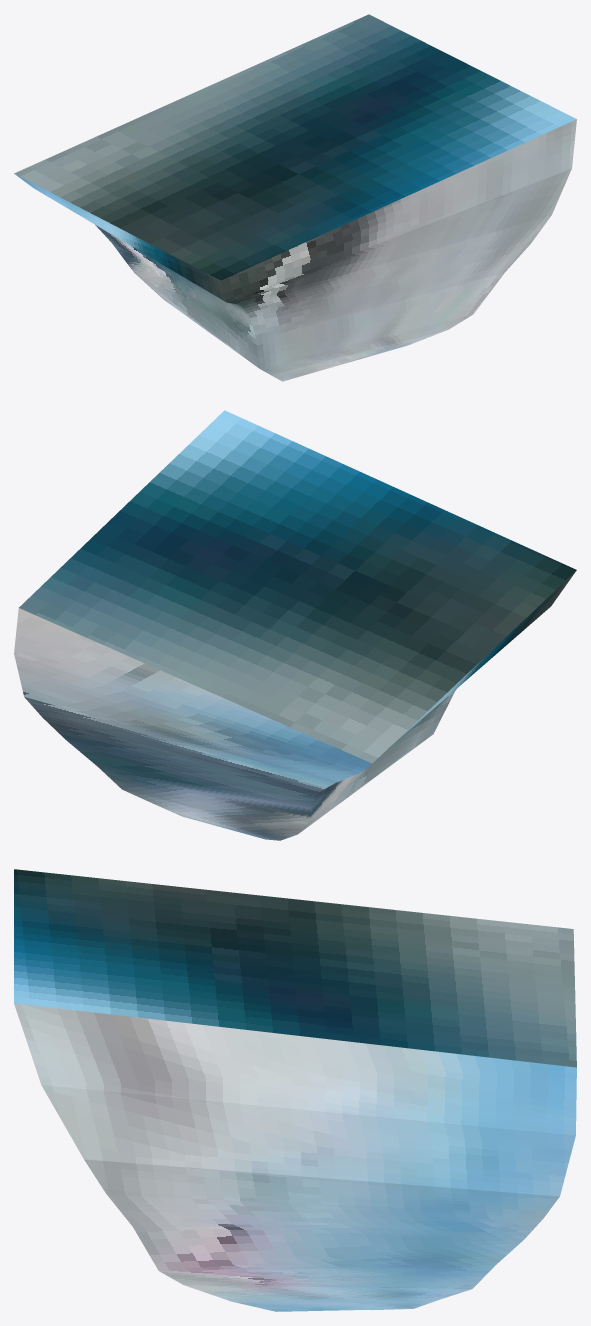
3 views of the same model, one above another, from view 1: azimuth 30°, elevation 25°; view 2: azimuth 150°, elevation 25°; view 3: azimuth 270°, elevation 25° (orthographic). The views are drawn at different scales.
Visible parts, largest first — view 1: SPLICE_1.003; view 2: SPLICE_1.003; view 3: SPLICE_1.003.
Part boxes in pixels (bbox=[...]): SPLICE_1.003: bbox=[14, 14, 576, 381]; SPLICE_1.003: bbox=[14, 410, 576, 840]; SPLICE_1.003: bbox=[14, 869, 576, 1311].
Size of the model in its own units: 1.06 by 0.8065 by 1.06.
Materials: 1 (1 with a texture image).
